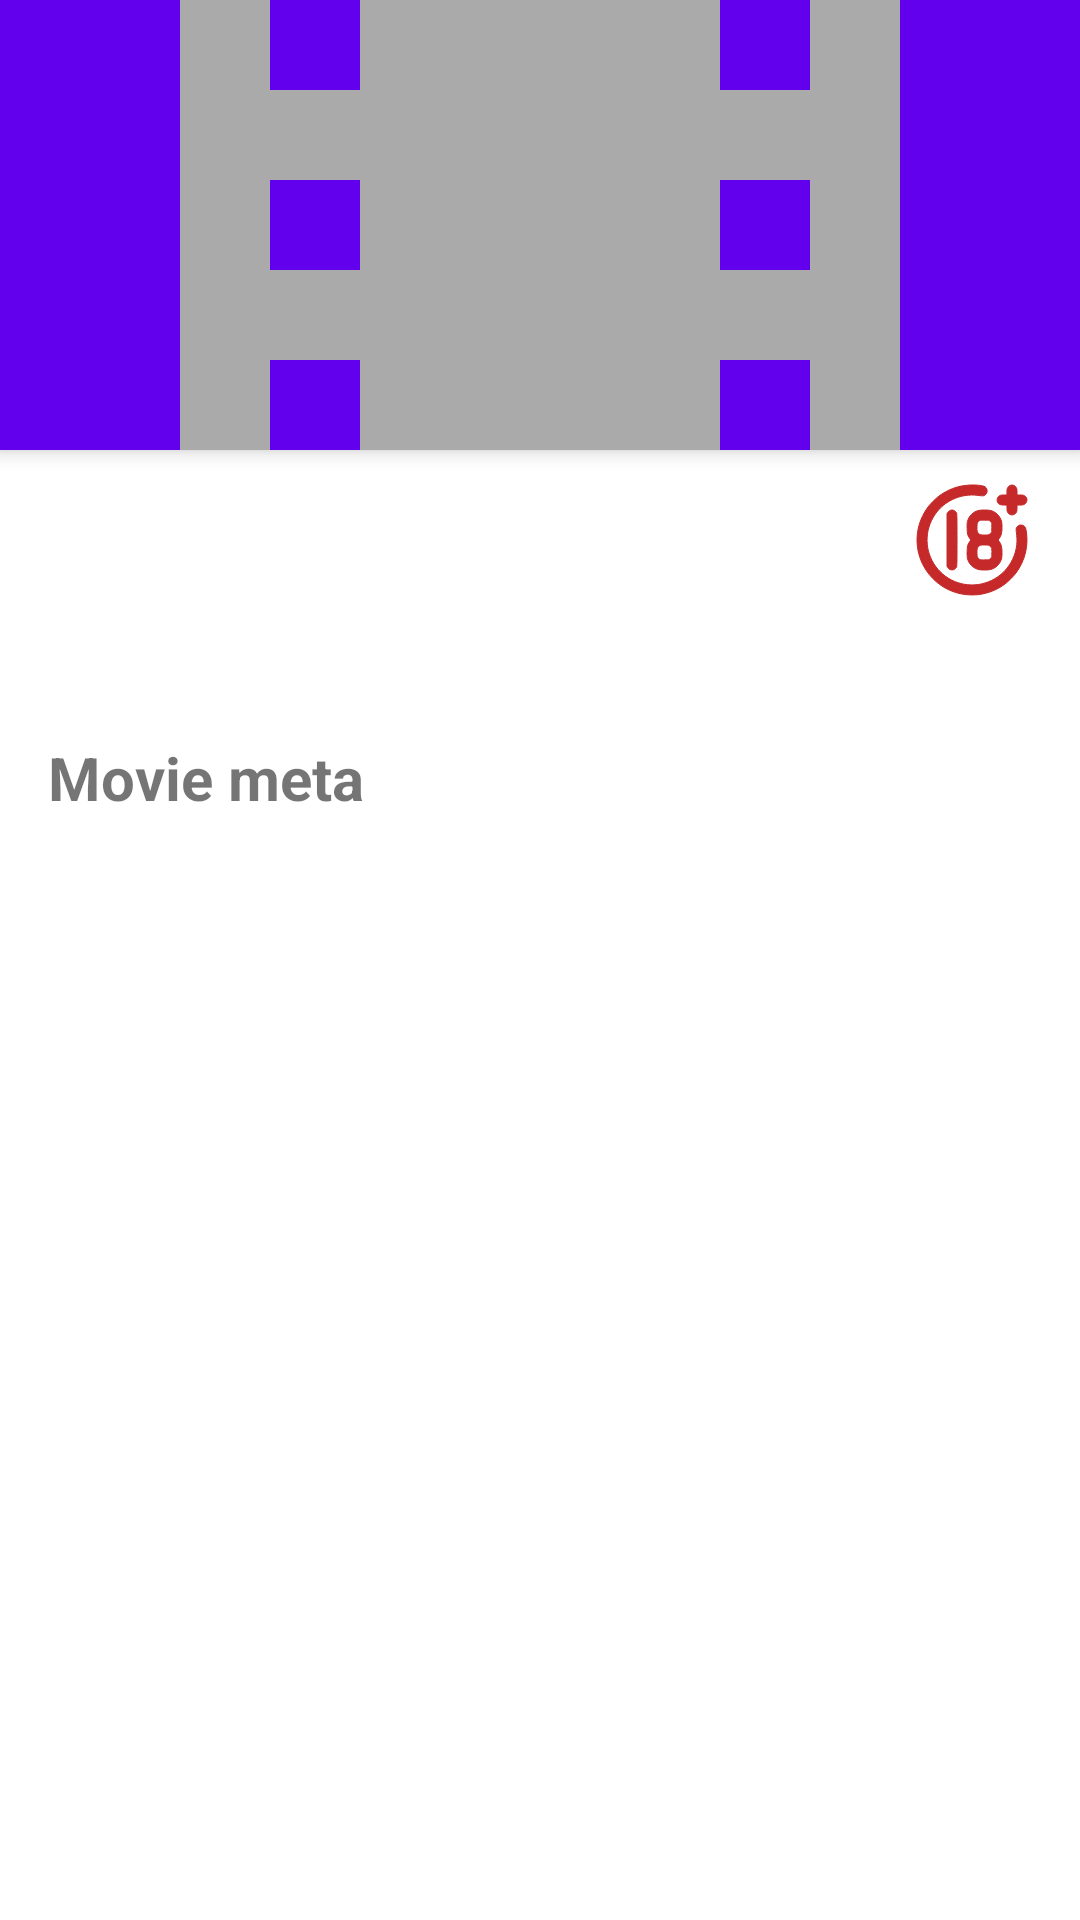

Screen size 1080px x 1920px. Icon name, then its center in pixels as (x,y):
adult movie: (972,540)
